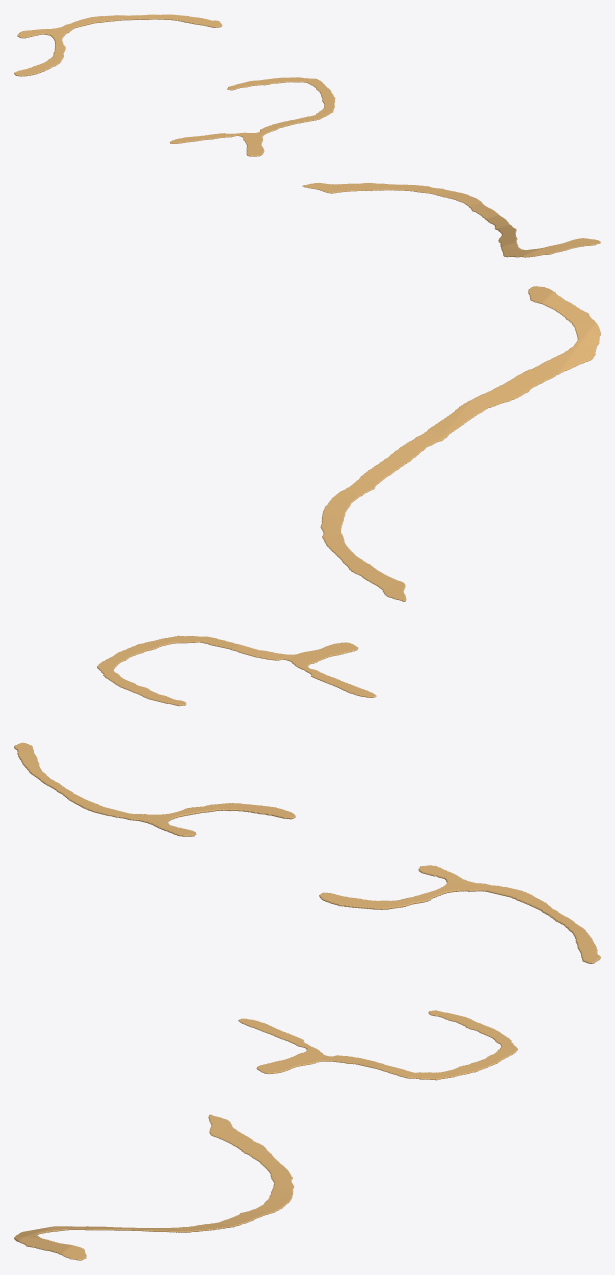
File: Path.fbx
3 views of the same model, one above another, from view 1: azimuth 30°, elevation 25°; view 2: azimuth 150°, elevation 25°; view 3: azimuth 330°, elevation 25° (orthographic). The views are drawn at different scales.
Visible parts, largest first — view 1: Chemins; view 2: Chemins; view 3: Chemins.
Part boxes in pixels (x1,y1,x2,y2): Chemins: (14,14,600,257); Chemins: (14,286,600,836); Chemins: (14,865,600,1260).
Size of the model in its own units: 14759 by 4025 by 47919.
